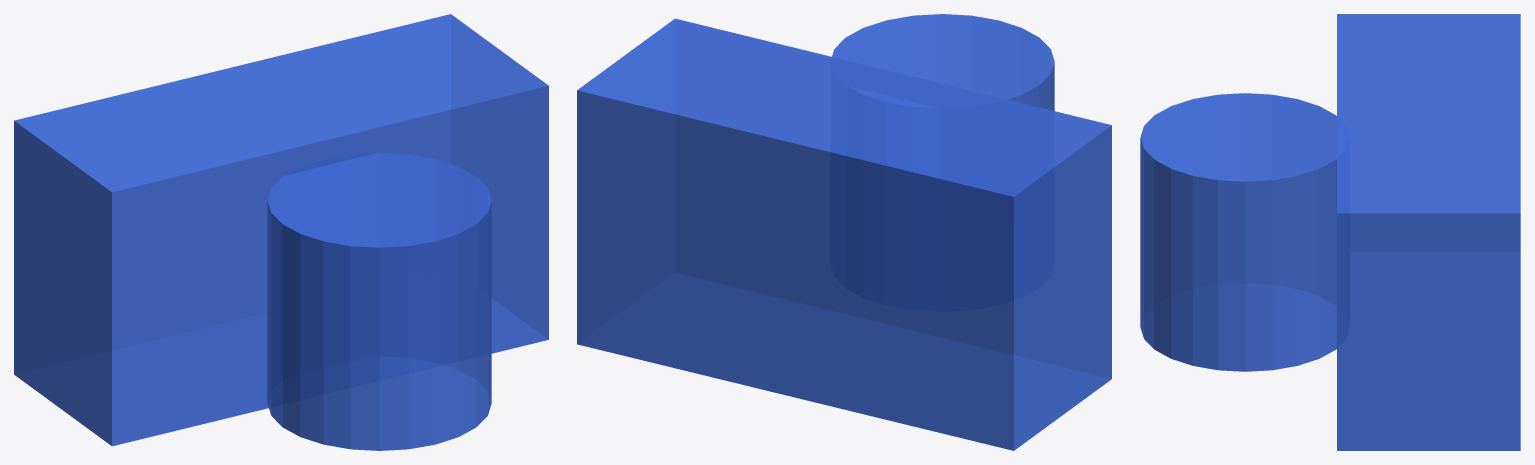
The model's file is cam_agent.obj.
3 renders of one model, left to right at view 1: azimuth 30°, elevation 25°; view 2: azimuth 150°, elevation 25°; view 3: azimuth 270°, elevation 25°, orthographic. The views are drawn at different scales.
Parts seen in each view (by area): view 1: cam_agent; view 2: cam_agent; view 3: cam_agent.
Part boxes in pixels (bbox=[...]): cam_agent: bbox=[14, 14, 548, 450]; cam_agent: bbox=[577, 14, 1111, 450]; cam_agent: bbox=[1140, 14, 1520, 450].
Bounding box in the file's own units: 1.8 × 1 × 1.45.
